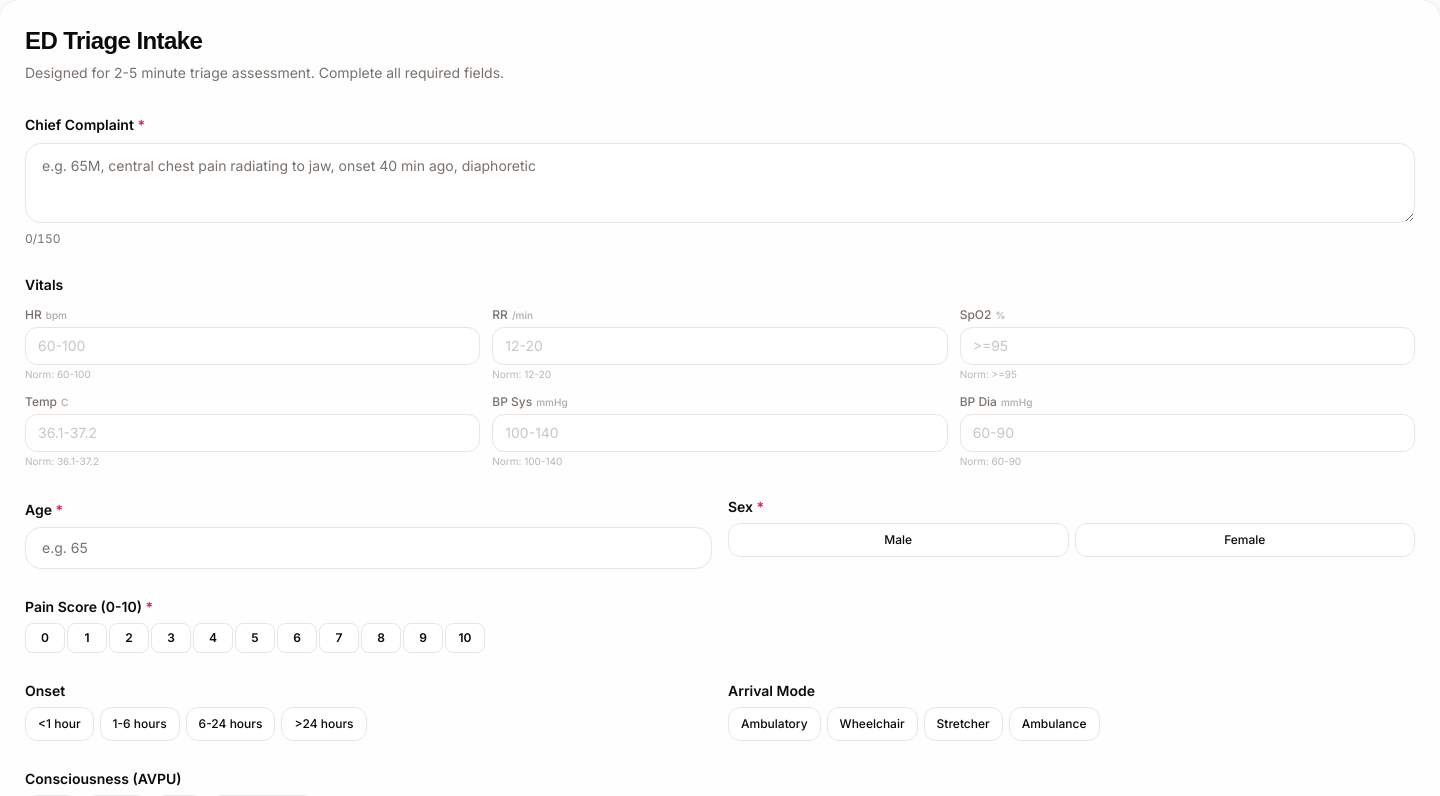
Scenario: TriageForm › shows pregnancy field when female is selected
Expected: the text "Pregnancy" is not shown
Click the button "Female" at (1245, 540), box [1074,523,1415,557]
(page scrolled)
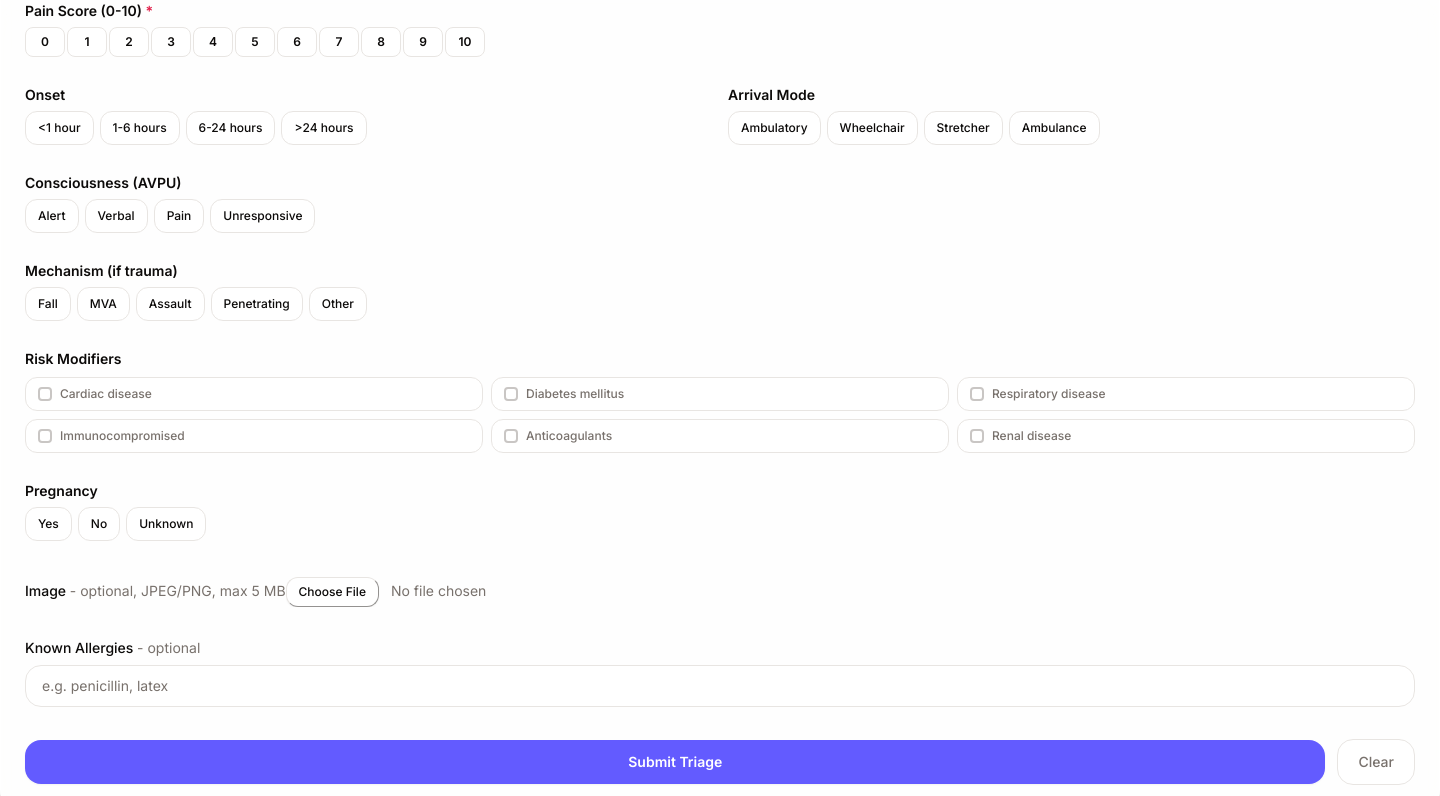
Result: the text "Pregnancy" is shown at [25,482,98,499]
